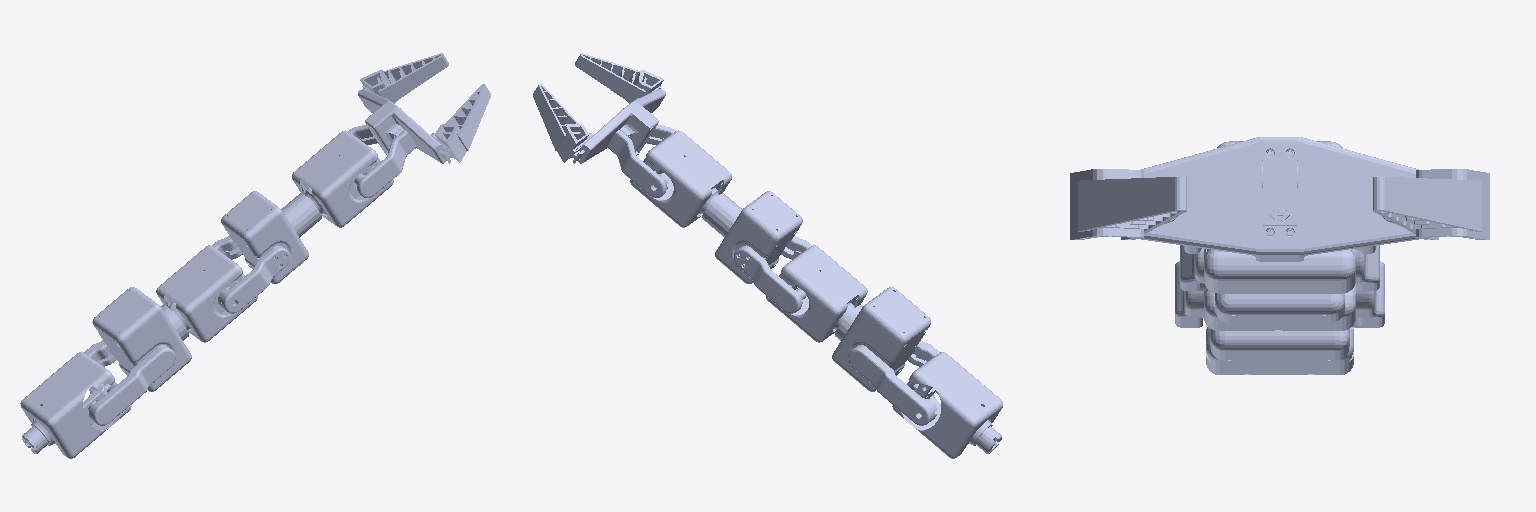
URDF robot description (LRM_urdf):
<?xml version="1.0" encoding="utf-8"?>
<!-- This URDF was automatically created by SolidWorks to URDF Exporter! Originally created by [author] ([email redacted]) 
     Commit Version: 1.6.0-4-g7f85cfe  Build Version: 1.6.7995.38578
     For more information, please see http://wiki.ros.org/sw_urdf_exporter -->
<robot
  name="LRM_urdf">
  <link
    name="base_link">
    <inertial>
      <origin
        xyz="-0.17744 -4.646E-05 0.1418"
        rpy="0 0 0" />
      <mass
        value="1.58" />
      <inertia
        ixx="0.019015"
        ixy="9.5921E-06"
        ixz="0.0023844"
        iyy="0.028606"
        iyz="-5.2044E-06"
        izz="0.022815" />
    </inertial>
    <visual>
      <origin
        xyz="0 0 0"
        rpy="0 0 0" />
      <geometry>
        <mesh
          filename="package://LRM_urdf/meshes/base_link.STL" />
      </geometry>
      <material
        name="">
        <color
          rgba="0.79216 0.81961 0.93333 1" />
      </material>
    </visual>
    <collision>
      <origin
        xyz="0 0 0"
        rpy="0 0 0" />
      <geometry>
        <mesh
          filename="package://LRM_urdf/meshes/base_link.STL" />
      </geometry>
    </collision>
  </link>
  <link
    name="Link1">
    <inertial>
      <origin
        xyz="-3.3004E-06 -0.0029352 0.039475"
        rpy="0 0 0" />
      <mass
        value="0.037998" />
      <inertia
        ixx="3.3124E-05"
        ixy="-2.9288E-08"
        ixz="-4.1087E-08"
        iyy="3.2572E-05"
        iyz="3.3577E-07"
        izz="1.3405E-05" />
    </inertial>
    <visual>
      <origin
        xyz="0 0 0"
        rpy="0 0 0" />
      <geometry>
        <mesh
          filename="package://LRM_urdf/meshes/Link1.STL" />
      </geometry>
      <material
        name="">
        <color
          rgba="0.79216 0.81961 0.93333 1" />
      </material>
    </visual>
    <collision>
      <origin
        xyz="0 0 0"
        rpy="0 0 0" />
      <geometry>
        <mesh
          filename="package://LRM_urdf/meshes/Link1.STL" />
      </geometry>
    </collision>
  </link>
  <joint
    name="Joint1"
    type="revolute">
    <origin
      xyz="-0.049281 0 0.23113"
      rpy="0 1.0472 0" />
    <parent
      link="base_link" />
    <child
      link="Link1" />
    <axis
      xyz="0 0 -1" />
    <limit
      lower="-1.74533"
      upper="1.74533"
      effort="0"
      velocity="0" />
  </joint>
  <link
    name="Link2">
    <inertial>
      <origin
        xyz="-0.0023653 0.057529 6.7663E-05"
        rpy="0 0 0" />
      <mass
        value="0.084755" />
      <inertia
        ixx="0.00010536"
        ixy="3.4002E-06"
        ixz="1.7658E-09"
        iyy="5.8005E-05"
        iyz="2.508E-07"
        izz="8.0787E-05" />
    </inertial>
    <visual>
      <origin
        xyz="0 0 0"
        rpy="0 0 0" />
      <geometry>
        <mesh
          filename="package://LRM_urdf/meshes/Link2.STL" />
      </geometry>
      <material
        name="">
        <color
          rgba="0.79216 0.81961 0.93333 1" />
      </material>
    </visual>
    <collision>
      <origin
        xyz="0 0 0"
        rpy="0 0 0" />
      <geometry>
        <mesh
          filename="package://LRM_urdf/meshes/Link2.STL" />
      </geometry>
    </collision>
  </link>
  <joint
    name="Joint2"
    type="revolute">
    <origin
      xyz="0 0 0.056905"
      rpy="1.5708 0 0" />
    <parent
      link="Link1" />
    <child
      link="Link2" />
    <axis
      xyz="0 0 -1" />
    <limit
      lower="-1.74533"
      upper="1.74533"
      effort="0"
      velocity="0" />
  </joint>
  <link
    name="Link3">
    <inertial>
      <origin
        xyz="-0.00058256 -0.0028234 0.035135"
        rpy="0 0 0" />
      <mass
        value="0.035798" />
      <inertia
        ixx="2.6633E-05"
        ixy="7.4604E-08"
        ixz="4.3982E-07"
        iyy="2.4887E-05"
        iyz="3.8428E-07"
        izz="1.1534E-05" />
    </inertial>
    <visual>
      <origin
        xyz="0 0 0"
        rpy="0 0 0" />
      <geometry>
        <mesh
          filename="package://LRM_urdf/meshes/Link3.STL" />
      </geometry>
      <material
        name="">
        <color
          rgba="0.79216 0.81961 0.93333 1" />
      </material>
    </visual>
    <collision>
      <origin
        xyz="0 0 0"
        rpy="0 0 0" />
      <geometry>
        <mesh
          filename="package://LRM_urdf/meshes/Link3.STL" />
      </geometry>
    </collision>
  </link>
  <joint
    name="Joint3"
    type="revolute">
    <origin
      xyz="0 0.094505 0"
      rpy="-1.5708 0 0" />
    <parent
      link="Link2" />
    <child
      link="Link3" />
    <axis
      xyz="0.51376 0 -0.85793" />
    <limit
      lower="-1.74533"
      upper="1.74533"
      effort="0"
      velocity="0" />
  </joint>
  <link
    name="Link4">
    <inertial>
      <origin
        xyz="-0.0020892 0.05153 2.7387E-05"
        rpy="0 0 0" />
      <mass
        value="0.051946" />
      <inertia
        ixx="7.0818E-05"
        ixy="1.0745E-06"
        ixz="5.3675E-09"
        iyy="3.346E-05"
        iyz="-1.5149E-08"
        izz="5.7667E-05" />
    </inertial>
    <visual>
      <origin
        xyz="0 0 0"
        rpy="0 0 0" />
      <geometry>
        <mesh
          filename="package://LRM_urdf/meshes/Link4.STL" />
      </geometry>
      <material
        name="">
        <color
          rgba="0.79216 0.81961 0.93333 1" />
      </material>
    </visual>
    <collision>
      <origin
        xyz="0 0 0"
        rpy="0 0 0" />
      <geometry>
        <mesh
          filename="package://LRM_urdf/meshes/Link4.STL" />
      </geometry>
    </collision>
  </link>
  <joint
    name="Joint4"
    type="revolute">
    <origin
      xyz="0 0 0.05207"
      rpy="1.5708 0 0" />
    <parent
      link="Link3" />
    <child
      link="Link4" />
    <axis
      xyz="0 0 -1" />
    <limit
      lower="-1.74533"
      upper="1.74533"
      effort="0"
      velocity="0" />
  </joint>
  <link
    name="Link5">
    <inertial>
      <origin
        xyz="-0.00043088 -0.0025427 0.04963"
        rpy="0 0 0" />
      <mass
        value="0.039443" />
      <inertia
        ixx="3.4556E-05"
        ixy="5.9448E-08"
        ixz="5.6089E-07"
        iyy="3.2998E-05"
        iyz="8.195E-07"
        izz="1.1868E-05" />
    </inertial>
    <visual>
      <origin
        xyz="0 0 0"
        rpy="0 0 0" />
      <geometry>
        <mesh
          filename="package://LRM_urdf/meshes/Link5.STL" />
      </geometry>
      <material
        name="">
        <color
          rgba="0.79216 0.81961 0.93333 1" />
      </material>
    </visual>
    <collision>
      <origin
        xyz="0 0 0"
        rpy="0 0 0" />
      <geometry>
        <mesh
          filename="package://LRM_urdf/meshes/Link5.STL" />
      </geometry>
    </collision>
  </link>
  <joint
    name="Joint5"
    type="revolute">
    <origin
      xyz="-2.2126E-05 0.080206 0"
      rpy="-1.5708 0 0" />
    <parent
      link="Link4" />
    <child
      link="Link5" />
    <axis
      xyz="0 0 -1" />
    <limit
      lower="-1.74533"
      upper="1.74533"
      effort="0"
      velocity="0" />
  </joint>
  <link
    name="Link6">
    <inertial>
      <origin
        xyz="-0.0021294 0.056494 0.00013588"
        rpy="0 0 0" />
      <mass
        value="0.081373" />
      <inertia
        ixx="0.00016127"
        ixy="1.2534E-07"
        ixz="-1.628E-08"
        iyy="0.00011516"
        iyz="6.7574E-07"
        izz="5.776E-05" />
    </inertial>
    <visual>
      <origin
        xyz="0 0 0"
        rpy="0 0 0" />
      <geometry>
        <mesh
          filename="package://LRM_urdf/meshes/Link6.STL" />
      </geometry>
      <material
        name="">
        <color
          rgba="0.79216 0.81961 0.93333 1" />
      </material>
    </visual>
    <collision>
      <origin
        xyz="0 0 0"
        rpy="0 0 0" />
      <geometry>
        <mesh
          filename="package://LRM_urdf/meshes/Link6.STL" />
      </geometry>
    </collision>
  </link>
  <joint
    name="Joint6"
    type="revolute">
    <origin
      xyz="2.2126E-05 0 0.070794"
      rpy="1.5708 0 0" />
    <parent
      link="Link5" />
    <child
      link="Link6" />
    <axis
      xyz="0 0 1" />
    <limit
      lower="-1.74533"
      upper="1.74533"
      effort="0"
      velocity="0" />
  </joint>
  <link
    name="End_effector">
    <inertial>
      <origin
        xyz="0.026883 -0.00012945 -0.58987"
        rpy="0 0 0" />
      <mass
        value="2.9994" />
      <inertia
        ixx="0.070978"
        ixy="-9.0561E-06"
        ixz="0.0012474"
        iyy="0.07772"
        iyz="9.364E-05"
        izz="0.024964" />
    </inertial>
    <visual>
      <origin
        xyz="0 0 0"
        rpy="0 0 0" />
      <geometry>
        <mesh
          filename="package://LRM_urdf/meshes/End_effector.STL" />
      </geometry>
      <material
        name="">
        <color
          rgba="1 1 1 1" />
      </material>
    </visual>
    <collision>
      <origin
        xyz="0 0 0"
        rpy="0 0 0" />
      <geometry>
        <mesh
          filename="package://LRM_urdf/meshes/End_effector.STL" />
      </geometry>
    </collision>
  </link>
  <joint
    name="End_effector"
    type="fixed">
    <origin
      xyz="0 0.13038 0"
      rpy="-1.5708 0 0" />
    <parent
      link="Link6" />
    <child
      link="End_effector" />
    <axis
      xyz="0 0 0" />
  </joint>
</robot>

--- What the picture shows (computed from the rendered views, not written in the file) ---
Views: 3 orthographic renders of the robot side by side, from view 1: azimuth 30°, elevation 25°; view 2: azimuth 150°, elevation 25°; view 3: azimuth 270°, elevation 25°.
Model LRM_urdf with 8 links and 7 joints (6 revolute, 1 fixed), rooted at base_link, posed every joint at zero.
Links seen in each view (by area): view 1: Link6, Link2, Link4, Link1, Link5, Link3; view 2: Link6, Link2, Link4, Link1, Link5, Link3; view 3: Link6, Link2, Link5, Link4, Link1, Link3.
Boxes of the visible links, bbox=[...] form: Link6: bbox=[349, 53, 490, 197]; Link2: bbox=[84, 287, 191, 425]; Link4: bbox=[203, 191, 321, 313]; Link1: bbox=[20, 352, 131, 458]; Link5: bbox=[292, 130, 393, 227]; Link3: bbox=[156, 245, 257, 342]; Link6: bbox=[533, 53, 674, 197]; Link2: bbox=[832, 287, 939, 425]; Link4: bbox=[702, 191, 811, 313]; Link1: bbox=[892, 352, 1002, 458]; Link5: bbox=[630, 130, 731, 227]; Link3: bbox=[766, 245, 867, 342]; Link6: bbox=[1070, 137, 1489, 261]; Link2: bbox=[1175, 261, 1384, 360]; Link5: bbox=[1204, 162, 1355, 293]; Link4: bbox=[1180, 141, 1379, 322]; Link1: bbox=[1206, 325, 1353, 374]; Link3: bbox=[1204, 284, 1355, 330].
Bounding box of the posed robot: 0.4306 × 0.1475 × 0.2593 m (x, y, z).
Meshes: 8 distinct files referenced, 6 mesh visuals loaded (6 binary STL); not drawn: 1 (reference not matched to a file when rendering), 1 (file found but could not be loaded).